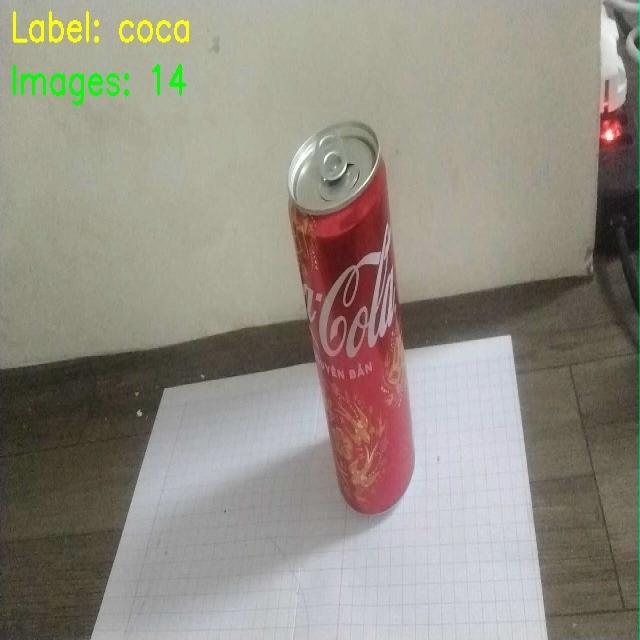Coca: (254, 131, 438, 526)
